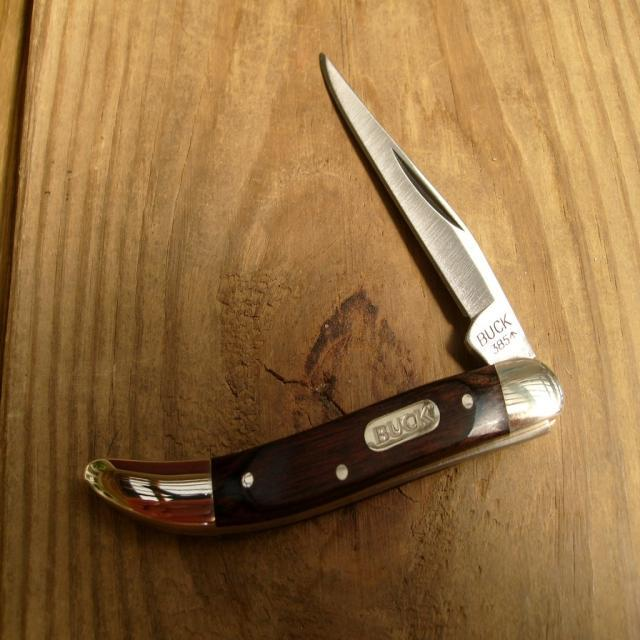Knife: (84, 55, 566, 539)
